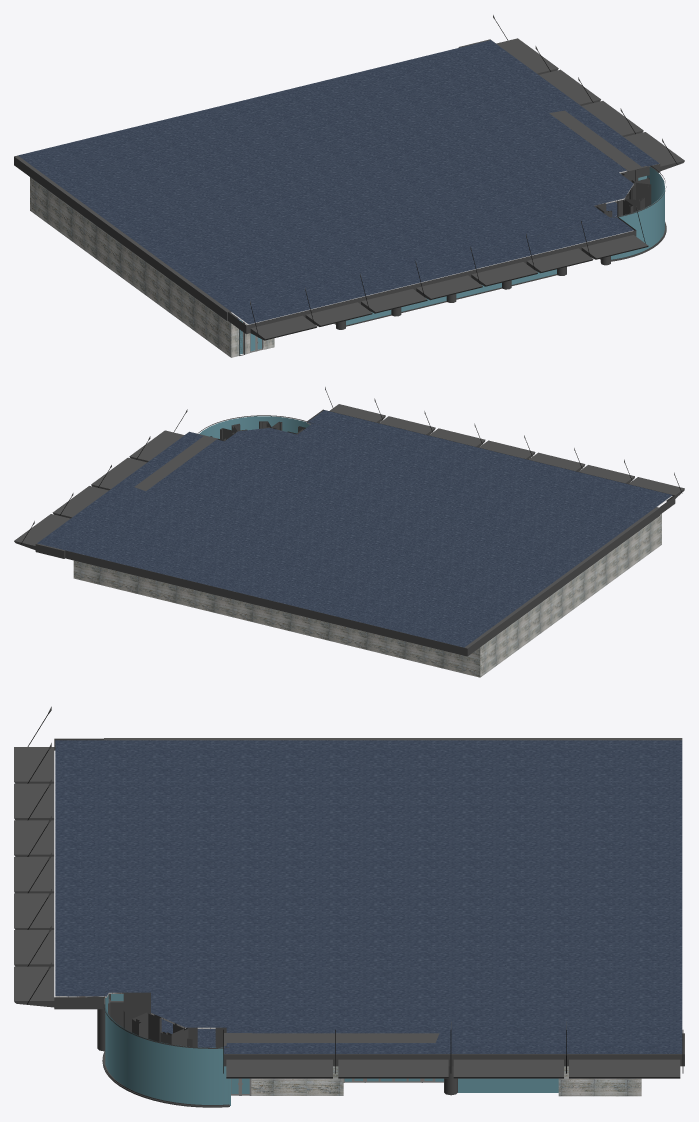
File: office2_hall_LOD2.FBX
3 renders of one model, top to bottom at view 1: azimuth 30°, elevation 25°; view 2: azimuth 150°, elevation 25°; view 3: azimuth 270°, elevation 25°, orthographic. The views are drawn at different scales.
Visible parts, largest first — view 1: floor004, structure006, walls007, glass005, exterior_columns002; view 2: floor004, structure006, walls007, glass005; view 3: floor004, structure006, glass005, walls007, exterior_columns002.
Part boxes in pixels (bbox=[...]): floor004: bbox=[18, 40, 659, 324]; structure006: bbox=[14, 15, 684, 355]; walls007: bbox=[30, 177, 617, 357]; glass005: bbox=[239, 167, 664, 354]; exterior_columns002: bbox=[336, 222, 666, 329]; floor004: bbox=[37, 410, 672, 647]; structure006: bbox=[14, 387, 684, 656]; walls007: bbox=[73, 513, 661, 677]; glass005: bbox=[199, 416, 309, 438]; floor004: bbox=[55, 740, 682, 1053]; structure006: bbox=[14, 706, 684, 1105]; glass005: bbox=[105, 994, 558, 1105]; walls007: bbox=[251, 1066, 641, 1096]; exterior_columns002: bbox=[97, 994, 457, 1107].
Size of the model in its own units: 7534 by 986 by 6409.
